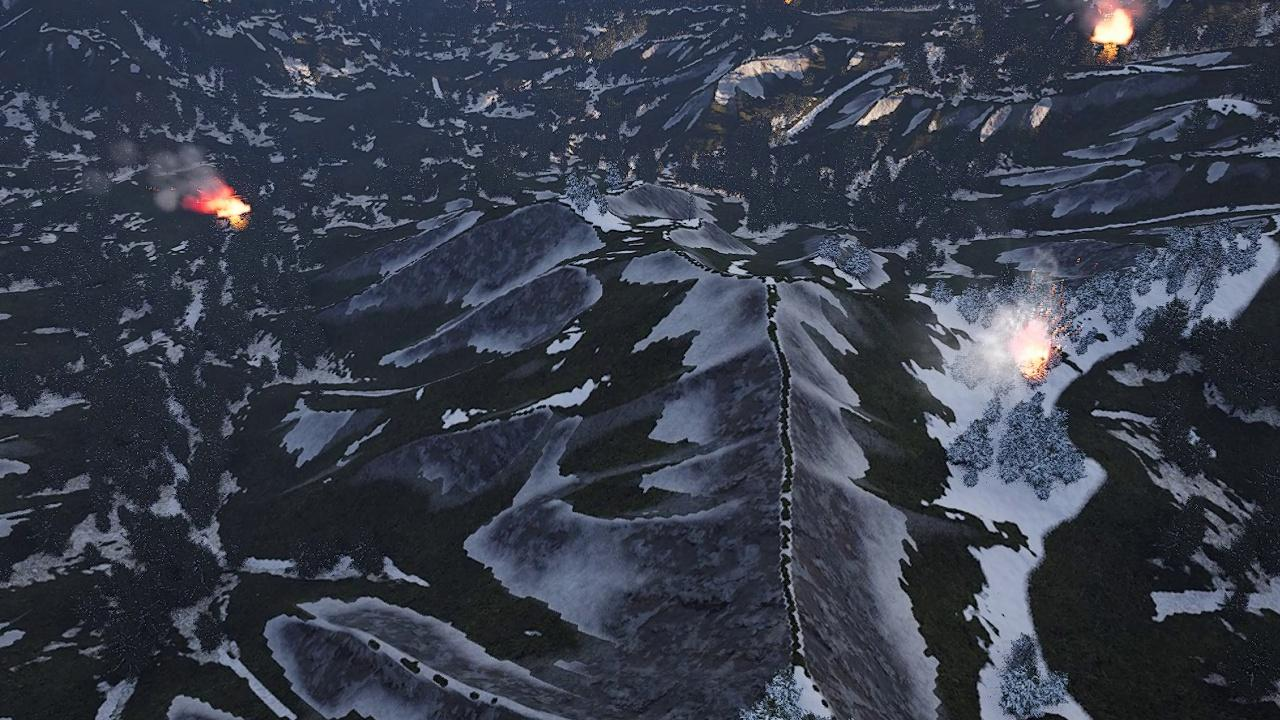fire: (1014, 327, 1055, 380), (198, 187, 249, 225), (1094, 8, 1137, 45)
smoke: (930, 249, 1057, 429), (111, 136, 220, 211), (1057, 0, 1155, 53)
